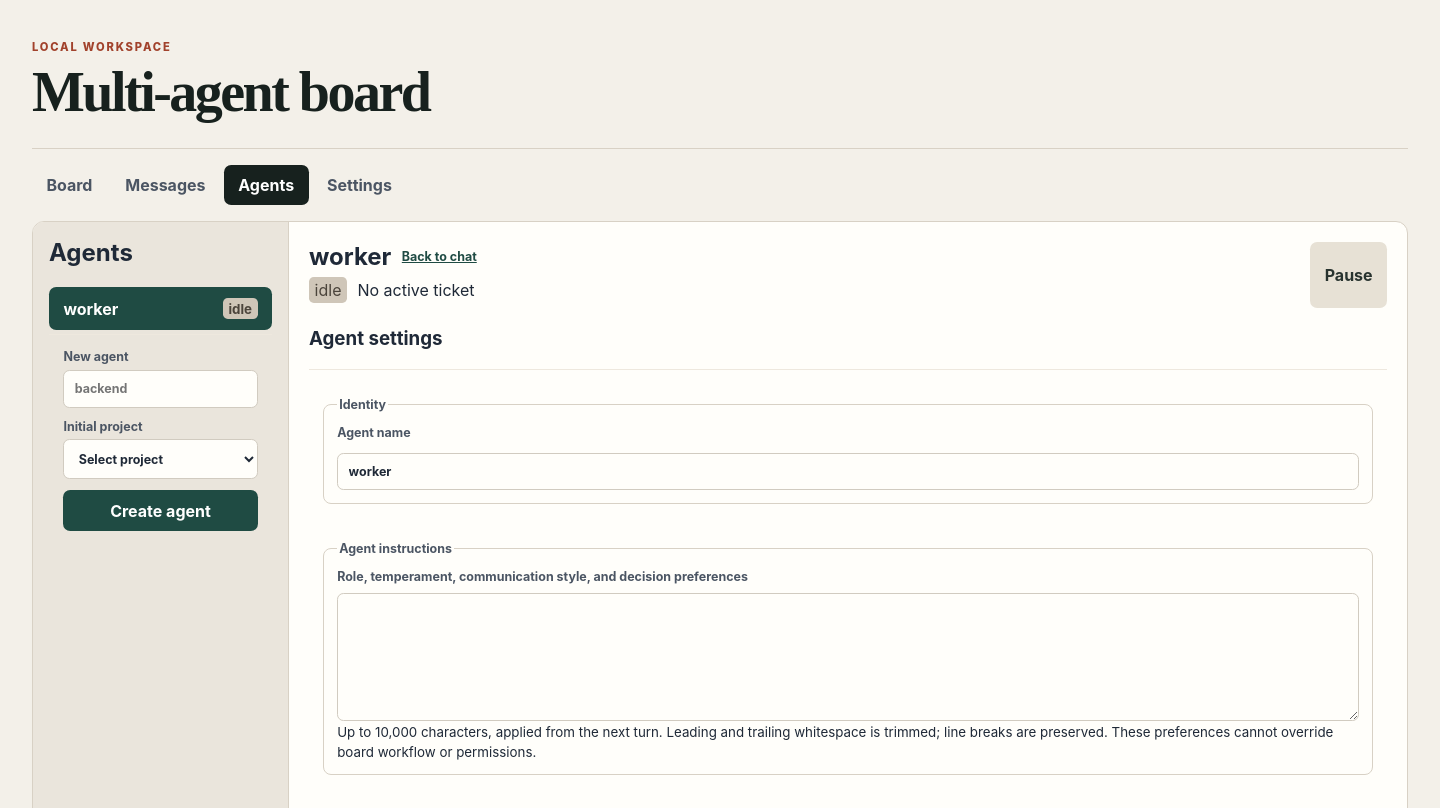
Test: App agent routes › opens board settings from the main navigation
expect the heading "Agent settings" is shown: met, box [309,327,442,350]
Click the link "settings" at coordinates (359, 185), box [327,175,392,195]
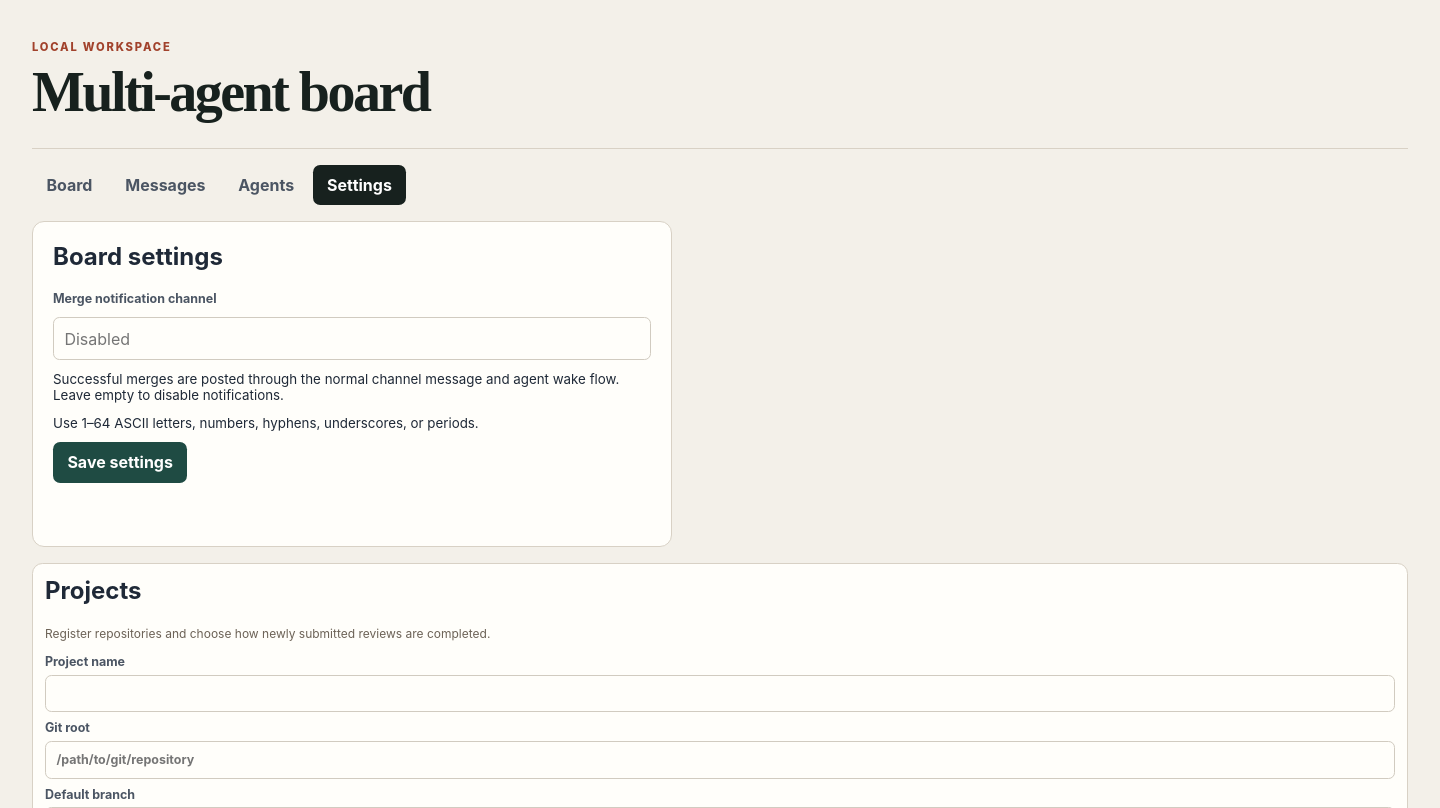
expect the heading "Board settings" is shown: met, box [53,242,223,271]
expect the heading "Projects" is shown: met, box [45,576,141,605]
